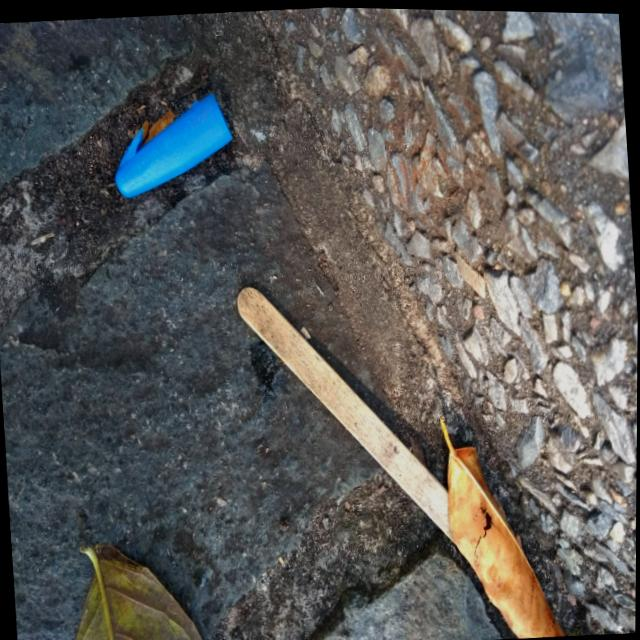Plastic: (226, 258, 465, 559), (97, 64, 246, 220)
